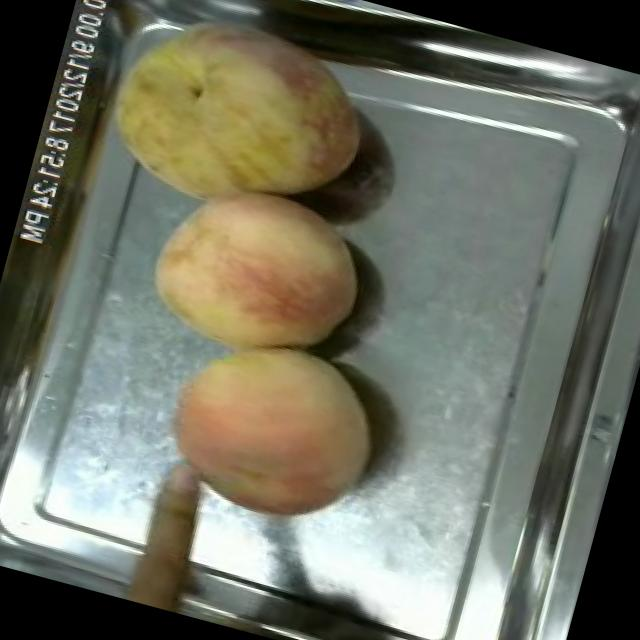Fruit: (76, 0, 392, 254), (140, 310, 402, 552), (127, 158, 384, 388)
